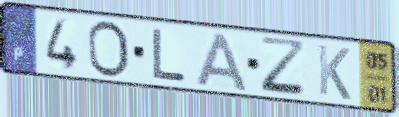4: (44, 17, 80, 73)
A: (194, 30, 251, 93)
K: (315, 42, 353, 102)
L: (150, 26, 189, 83)
O: (86, 19, 132, 80)
Z: (258, 34, 309, 100)
